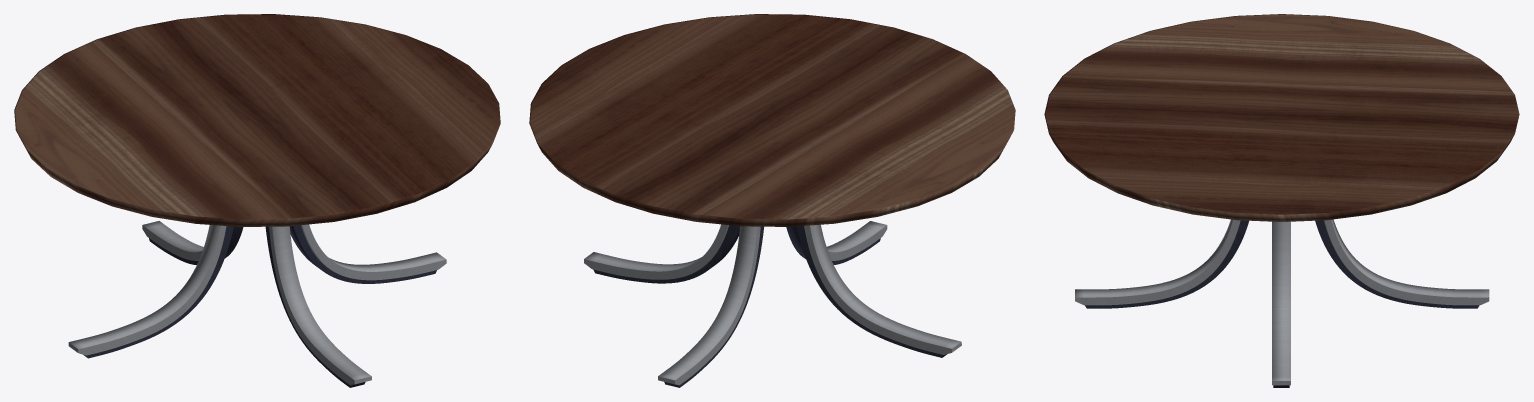
File: dining6.glb
3 renders of one model, left to right at view 1: azimuth 30°, elevation 25°; view 2: azimuth 150°, elevation 25°; view 3: azimuth 270°, elevation 25°, orthographic. The views are drawn at different scales.
Parts seen in each view (by area): view 1: Table_-_LOW_Cylinder; view 2: Table_-_LOW_Cylinder; view 3: Table_-_LOW_Cylinder.
Part boxes in pixels (box(x1,y1,x2,y2)): Table_-_LOW_Cylinder: box(14, 14, 500, 387); Table_-_LOW_Cylinder: box(529, 14, 1015, 387); Table_-_LOW_Cylinder: box(1044, 14, 1519, 387).
Bounding box in the file's own units: 1.49 × 0.6614 × 1.49.
Materials: 1 (1 with a texture image).
